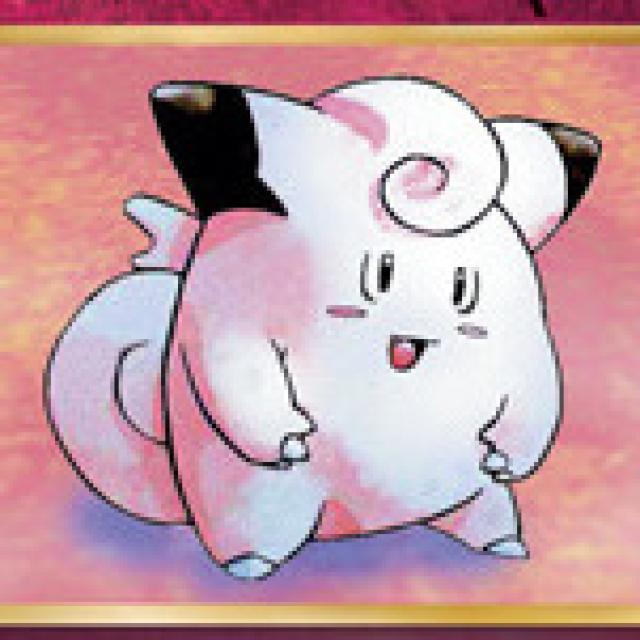Clefairy: (135, 79, 591, 580)
